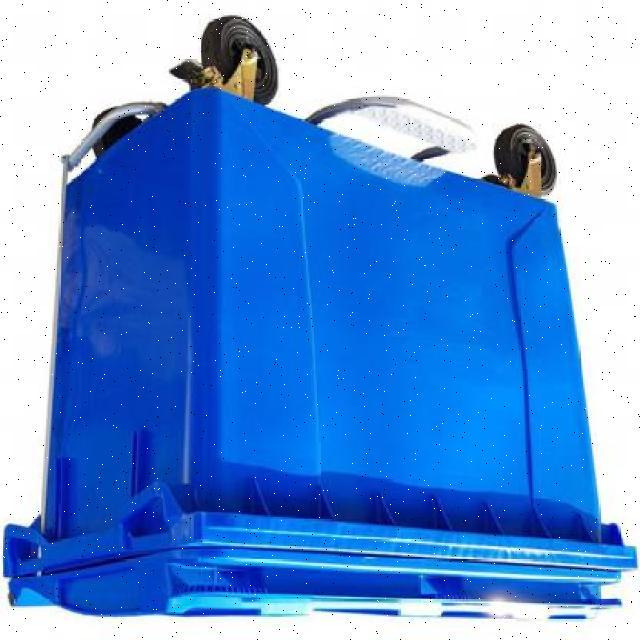garbage container: (4, 2, 640, 628)
